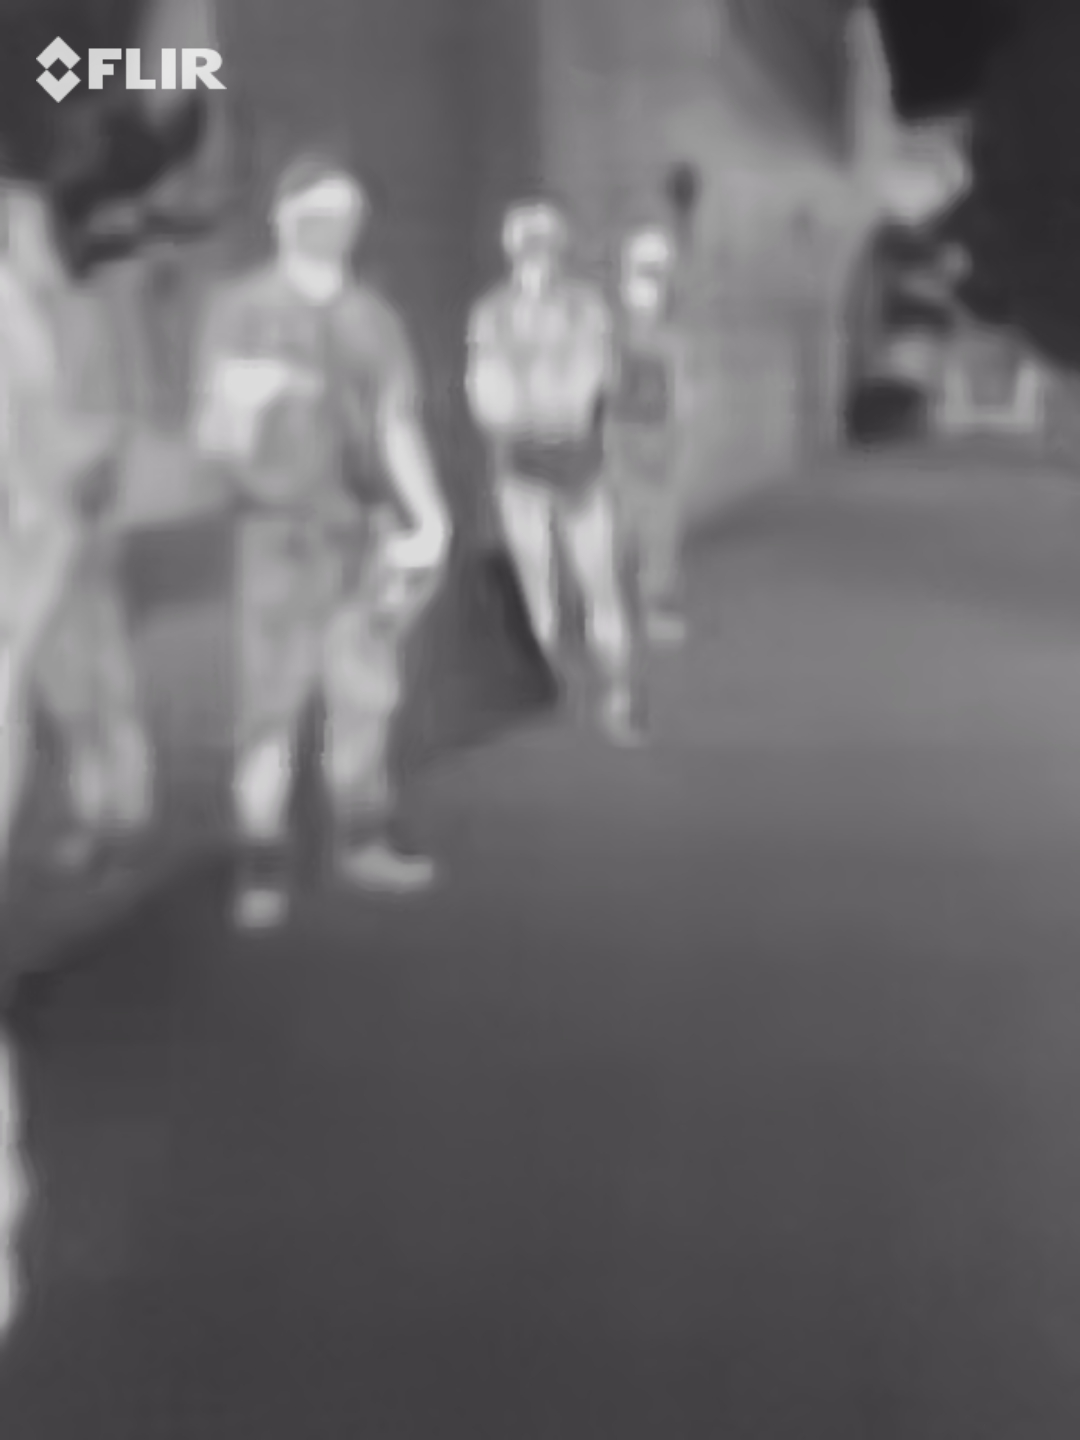head: (266, 148, 366, 274)
